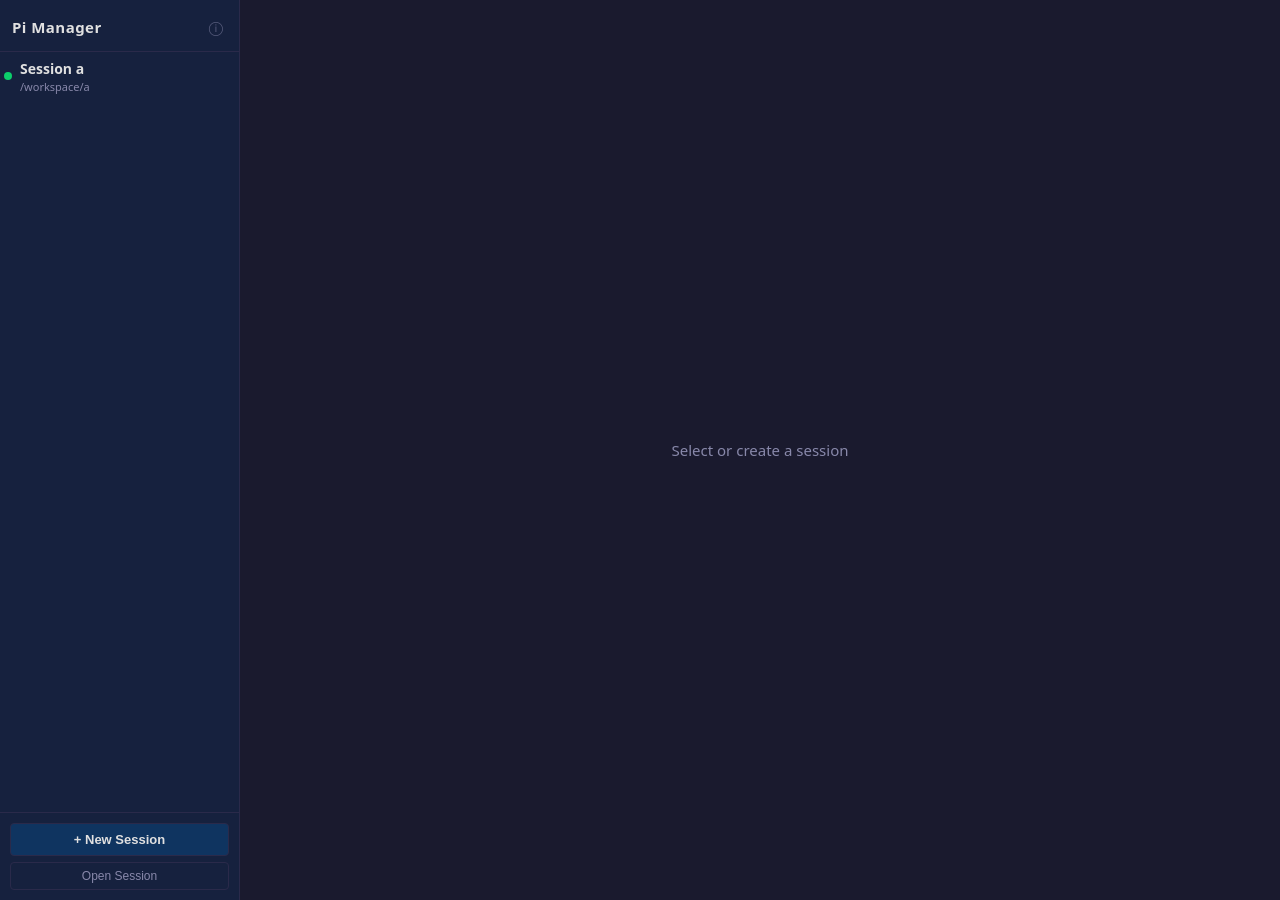
it: App › shows confirm dialog before delete
Expected: the text "Session a" is shown, x1=20 y1=58 x2=84 y2=78
Step 1. Right-click the button "Session a /workspace/a" → (124, 76), box x1=4 y1=58 x2=243 y2=95
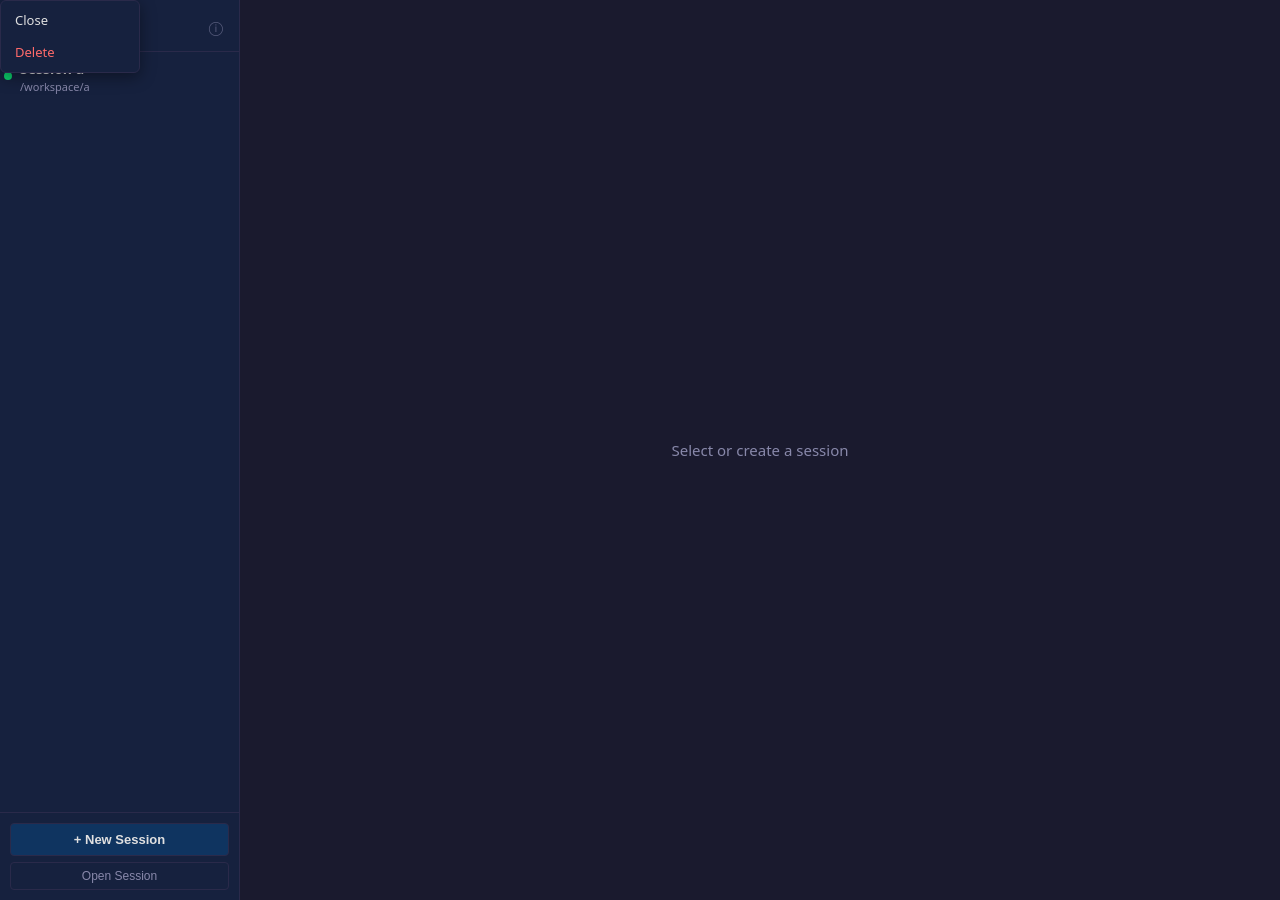
Step 2. Click the button "Delete" → (70, 52), box x1=1 y1=36 x2=139 y2=68
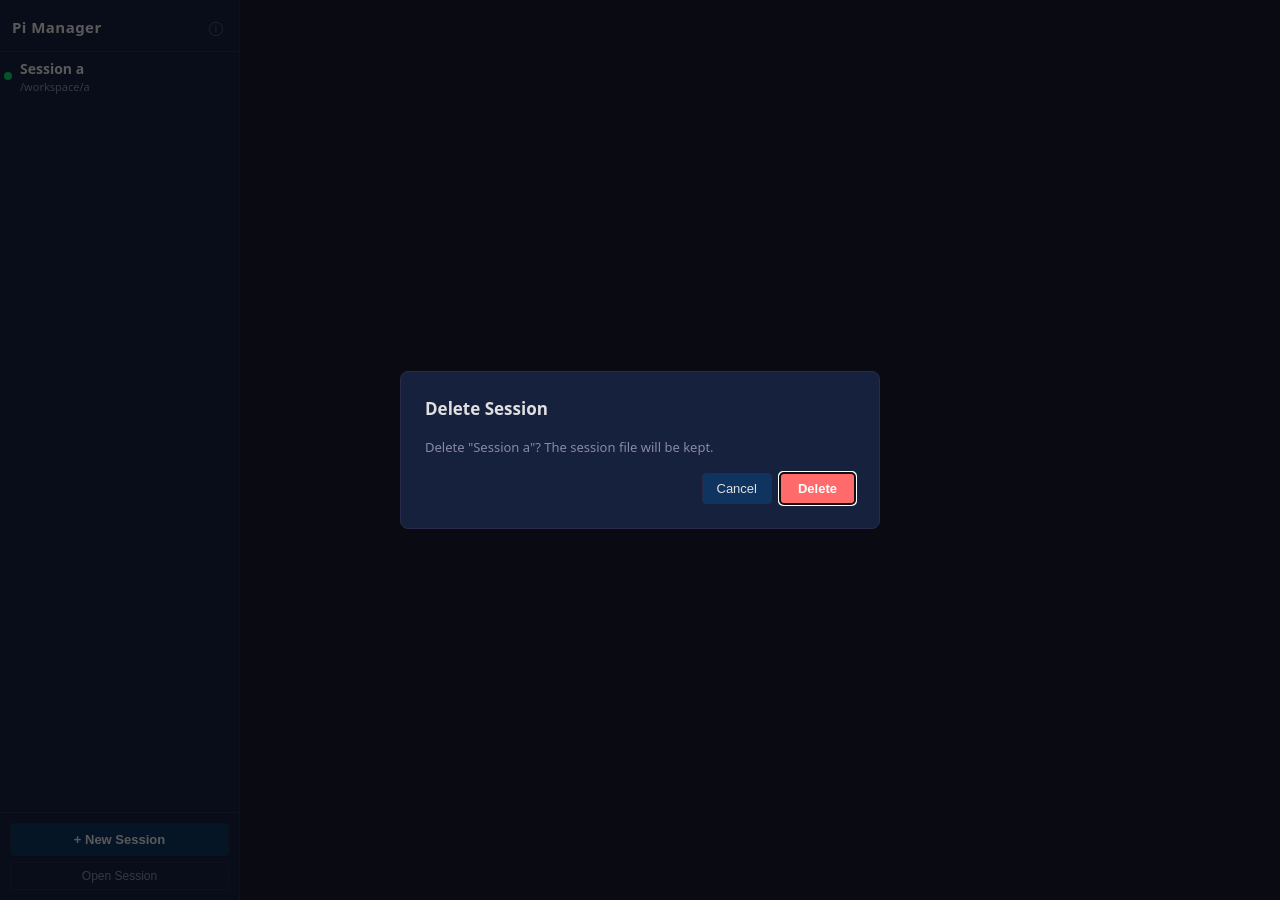
Now the text "Delete \"Session a\"? The session file will be kept." is shown, box x1=425 y1=438 x2=714 y2=456
